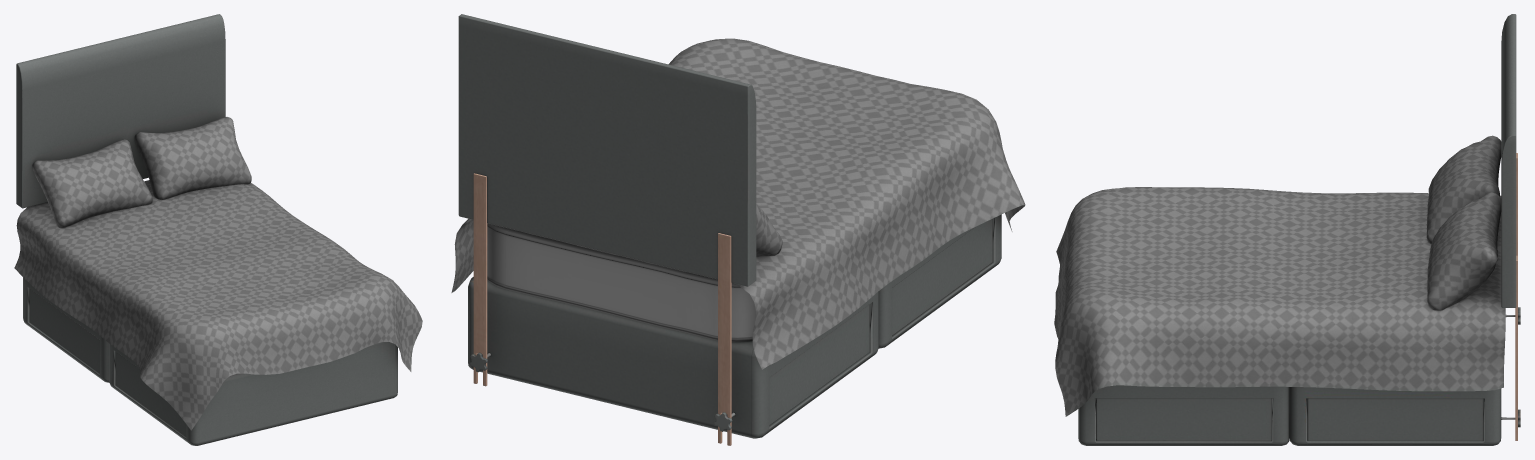
The model's file is bed_double.gltf.
The picture shows the model from 3 angles, left to right: view 1: azimuth 30°, elevation 25°; view 2: azimuth 150°, elevation 25°; view 3: azimuth 270°, elevation 25°; orthographic projection. The views are drawn at different scales.
Visible parts, largest first — view 1: SM_Kingsize_Bed; view 2: SM_Kingsize_Bed; view 3: SM_Kingsize_Bed.
Part boxes in pixels (x1,y1,x2,y2): SM_Kingsize_Bed: [14, 14, 422, 445]; SM_Kingsize_Bed: [451, 14, 1025, 445]; SM_Kingsize_Bed: [1054, 14, 1520, 445].
Bounding box in the file's own units: 328 × 295 × 399.
Materials: 1 (1 with a texture image).
